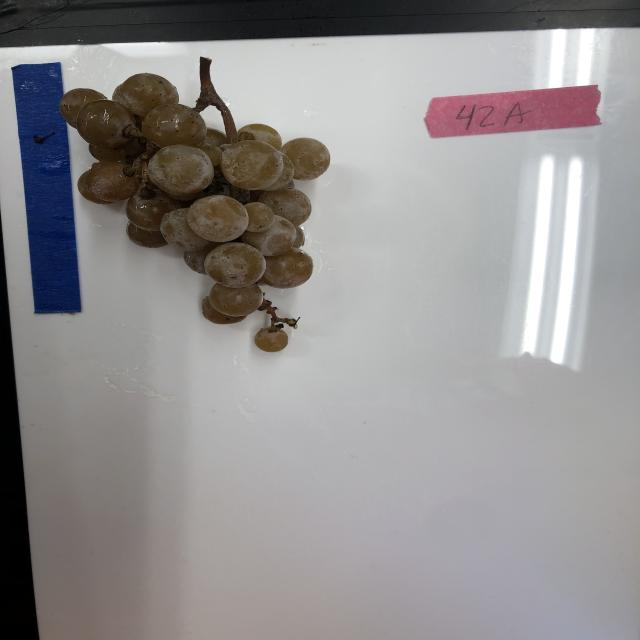grape_cluster: (61, 54, 333, 358)
index: (422, 83, 603, 140)
measure_label: (12, 60, 84, 316)
